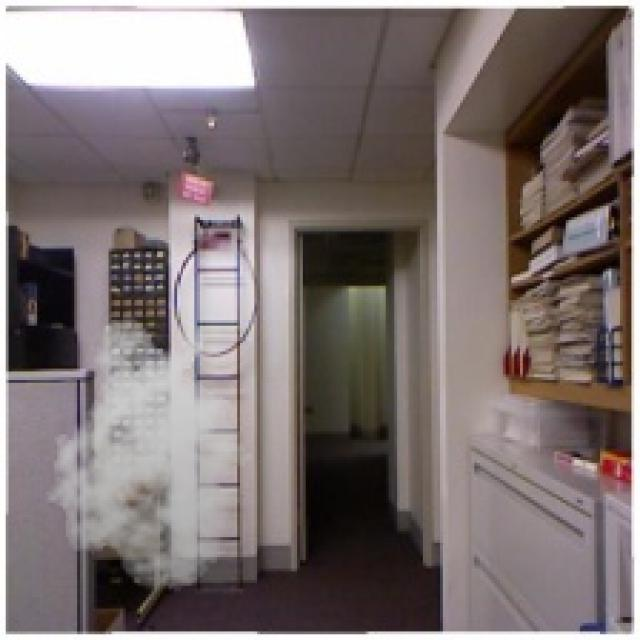smoke: (40, 314, 266, 592)
